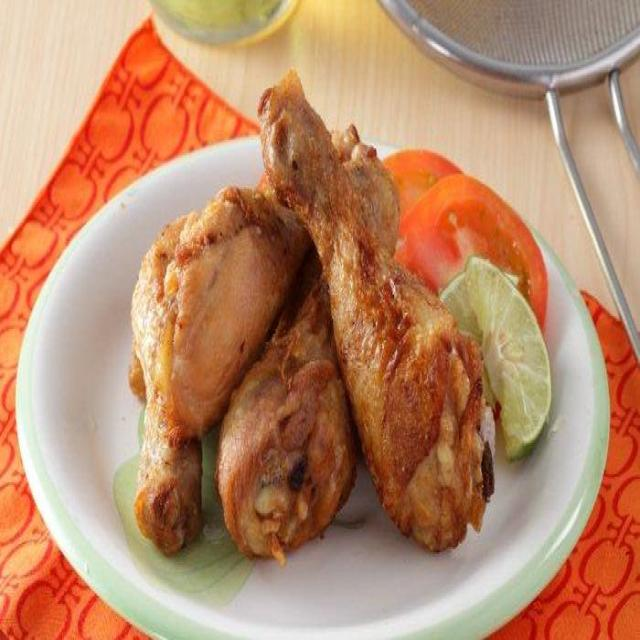Frango: (256, 80, 493, 546), (128, 132, 363, 563), (219, 160, 361, 555)
